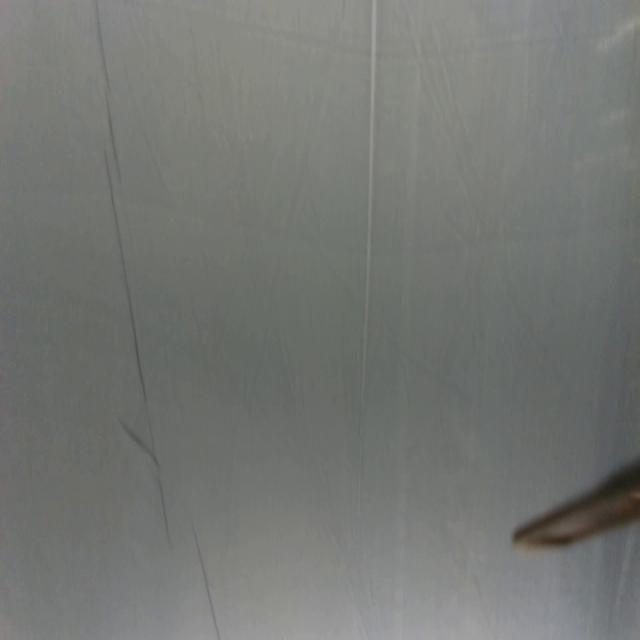crease: (103, 155, 168, 536), (355, 0, 378, 545), (192, 518, 220, 640), (116, 414, 161, 471), (92, 0, 110, 89), (104, 90, 122, 174)
